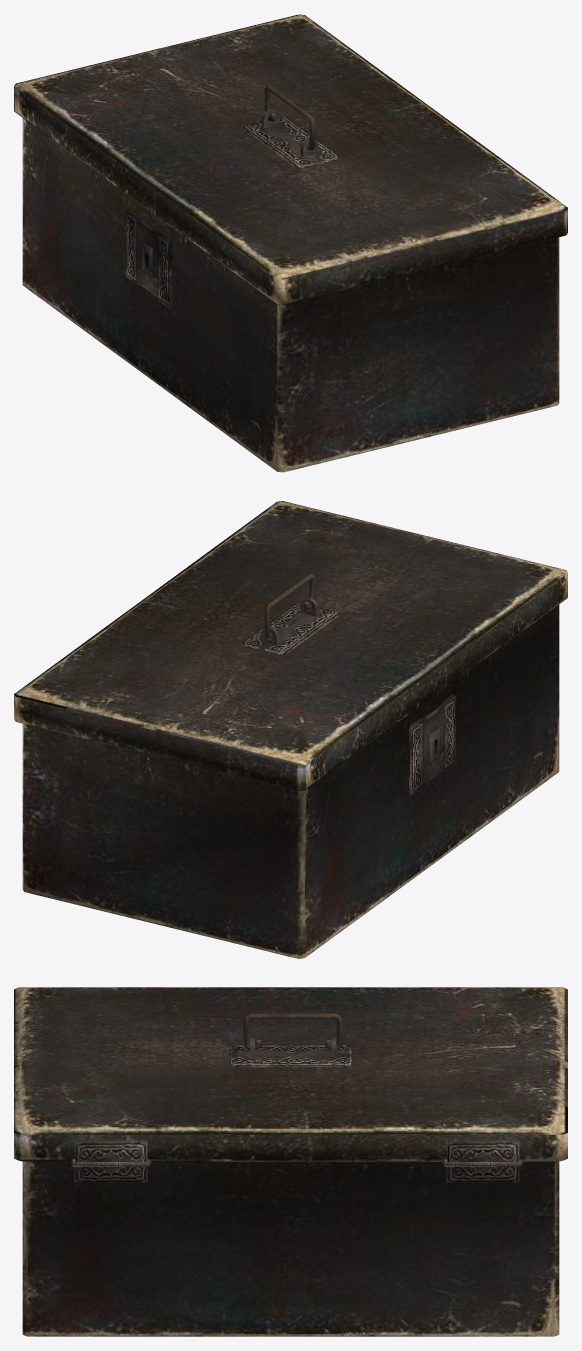
Rendered from lockbox.fbx.
3 views of the same model, one above another, from view 1: azimuth 30°, elevation 25°; view 2: azimuth 150°, elevation 25°; view 3: azimuth 270°, elevation 25° (orthographic). The views are drawn at different scales.
Parts seen in each view (by area): view 1: lockbox; view 2: lockbox; view 3: lockbox.
Boxes of the visible parts, x1,y1,x2,y2 form: lockbox: [14, 14, 567, 472]; lockbox: [14, 501, 567, 958]; lockbox: [14, 987, 567, 1336].
Bounding box in the file's own units: 32.42 × 25.55 × 51.02.
Materials: 1 (1 with a texture image).
